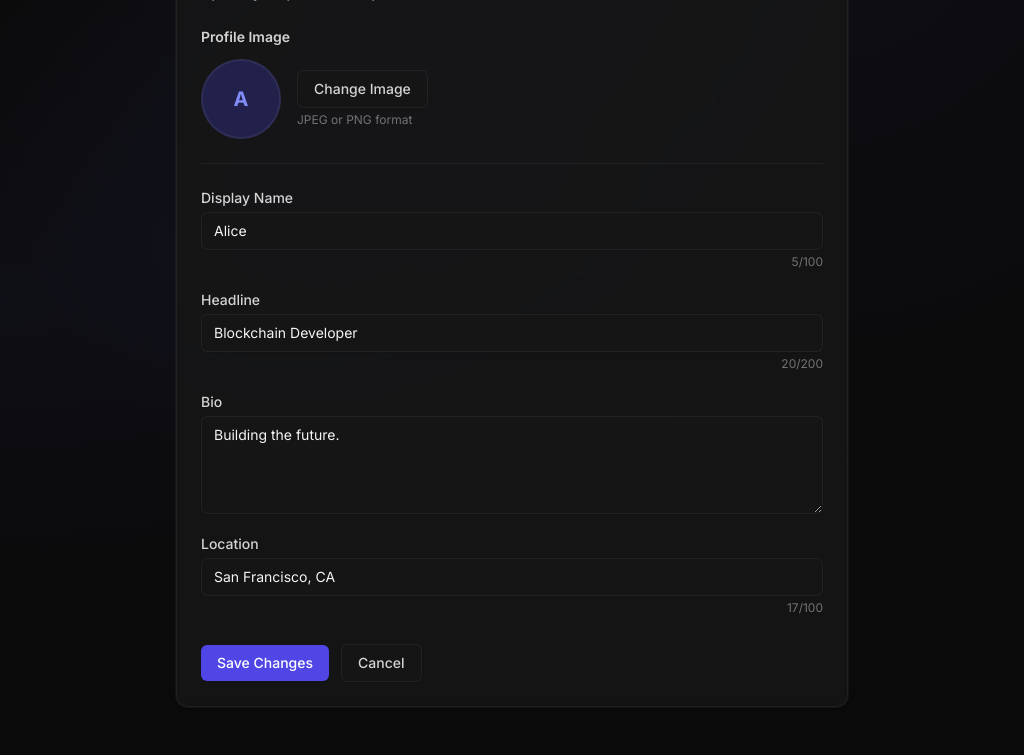
Test: ProfileEditPage › shows success message after saving
The image size is (1024, 755).
(page scrolled)
Expected: the field labelled "Display Name" is shown, [201,212,823,250]
Click the button "Save Changes" at (265, 663), box [201,645,329,681]
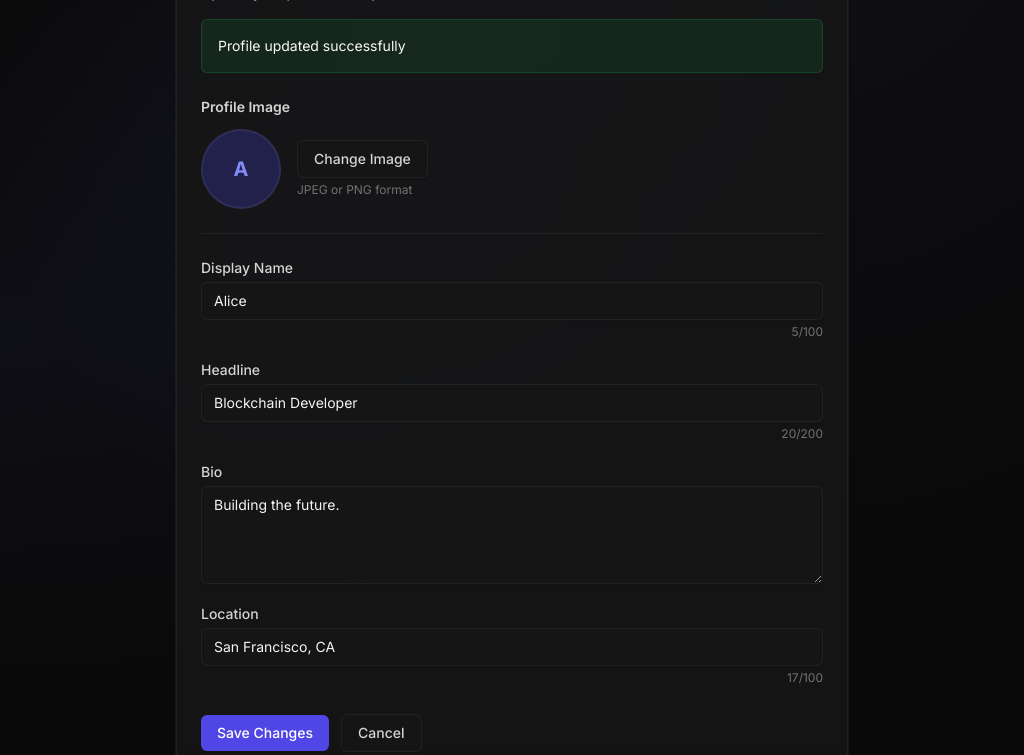
Expected: the text "Profile updated successfully" is shown, [201,19,823,73]
